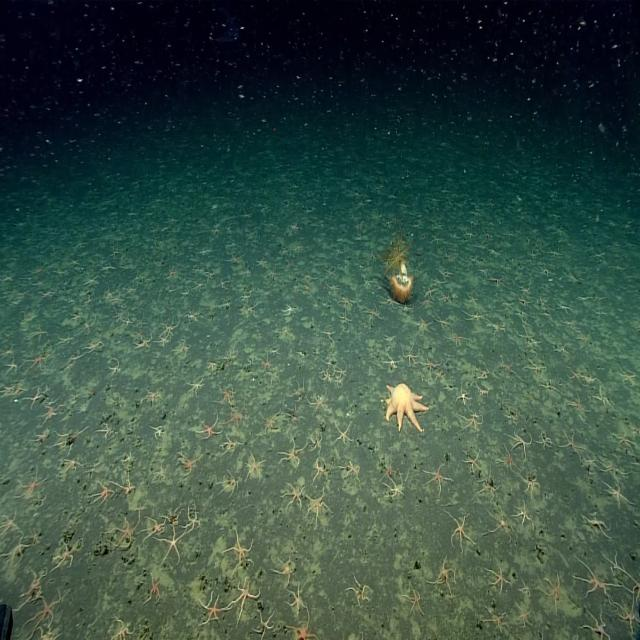brittle-stars: (575, 556, 611, 597), (33, 589, 63, 630), (232, 582, 260, 618), (533, 373, 566, 402), (2, 532, 30, 566), (228, 530, 254, 566), (449, 513, 474, 550), (163, 527, 187, 565), (19, 466, 47, 498), (112, 514, 138, 548), (583, 608, 610, 640), (347, 573, 371, 605), (488, 508, 512, 540), (202, 592, 226, 624), (616, 600, 639, 633), (543, 572, 565, 606), (433, 558, 455, 592), (237, 298, 264, 324), (584, 510, 609, 538), (25, 568, 48, 598), (424, 463, 449, 490), (56, 539, 78, 569), (513, 321, 539, 346), (604, 480, 628, 507), (55, 428, 82, 452), (291, 616, 318, 640), (307, 490, 328, 520), (621, 567, 640, 600), (280, 439, 304, 465), (282, 482, 304, 510), (561, 430, 583, 458), (161, 505, 185, 530), (602, 461, 629, 483), (487, 565, 508, 593), (111, 617, 136, 640), (254, 612, 276, 638), (406, 585, 424, 616), (510, 431, 533, 455), (198, 416, 222, 439), (228, 405, 250, 430), (92, 481, 114, 506), (0, 509, 19, 537), (144, 516, 167, 539), (486, 610, 507, 635), (436, 285, 457, 310), (613, 428, 636, 450), (246, 452, 264, 480), (288, 586, 306, 614), (178, 451, 199, 475), (512, 501, 532, 526), (275, 556, 295, 581), (28, 351, 52, 371), (219, 471, 238, 496), (481, 473, 500, 498), (459, 413, 482, 433), (17, 306, 40, 326), (498, 446, 516, 471), (146, 577, 162, 604), (63, 456, 84, 476), (25, 384, 45, 405), (212, 296, 234, 315), (514, 605, 531, 629), (184, 509, 200, 534), (309, 392, 329, 412), (226, 247, 245, 268), (336, 422, 354, 444), (116, 477, 134, 499), (592, 386, 610, 408), (265, 410, 281, 434), (526, 356, 546, 375), (342, 460, 360, 481), (462, 451, 480, 472), (386, 476, 404, 497), (41, 403, 60, 422), (216, 384, 234, 404), (523, 475, 540, 496), (568, 392, 585, 413), (187, 376, 206, 394), (447, 330, 466, 348), (620, 368, 638, 387), (79, 290, 95, 311), (67, 305, 83, 326), (313, 458, 328, 480), (163, 316, 180, 335), (203, 354, 219, 374), (37, 626, 59, 640), (436, 312, 453, 330), (144, 388, 162, 405), (98, 422, 115, 440), (30, 324, 48, 341), (464, 310, 483, 326), (290, 382, 305, 402), (136, 335, 153, 352), (363, 304, 379, 322), (175, 341, 191, 359), (422, 356, 440, 372), (222, 437, 238, 455), (488, 319, 506, 335), (405, 347, 420, 366), (567, 364, 582, 383), (358, 271, 373, 290), (58, 332, 75, 348), (381, 295, 398, 311), (457, 387, 472, 405), (82, 317, 97, 335), (155, 462, 170, 480), (536, 432, 550, 451), (86, 340, 105, 354), (225, 348, 239, 367), (30, 525, 42, 547), (311, 432, 324, 452), (554, 343, 570, 359), (417, 316, 432, 333), (513, 306, 531, 320), (87, 460, 101, 478), (504, 407, 518, 425), (108, 357, 121, 376), (520, 578, 532, 598), (4, 359, 19, 375), (528, 336, 544, 351), (385, 352, 399, 369), (382, 461, 396, 478), (150, 423, 164, 440), (498, 356, 512, 373), (476, 363, 490, 380), (135, 314, 150, 329), (282, 304, 298, 318), (561, 316, 577, 330), (34, 428, 50, 442), (135, 500, 148, 517), (339, 312, 354, 326), (268, 369, 282, 384), (476, 384, 491, 398), (578, 332, 592, 347), (372, 281, 387, 295), (158, 335, 172, 349), (340, 293, 354, 307), (322, 326, 336, 340), (104, 285, 116, 301), (263, 354, 275, 370), (87, 274, 100, 288), (431, 275, 444, 289), (185, 310, 198, 324), (489, 274, 503, 287), (126, 282, 139, 296), (40, 287, 54, 300), (12, 381, 25, 395), (123, 450, 135, 465), (538, 264, 550, 279), (630, 422, 640, 439), (168, 267, 181, 280), (255, 255, 268, 268), (268, 269, 281, 282), (1, 346, 14, 359), (320, 368, 332, 382), (557, 302, 571, 314), (548, 248, 562, 260), (0, 380, 12, 394), (337, 362, 348, 377), (466, 290, 477, 305), (365, 247, 376, 262), (520, 283, 532, 296), (195, 279, 207, 292), (423, 285, 435, 298), (240, 290, 252, 303), (218, 278, 230, 291), (327, 282, 340, 294), (301, 272, 314, 284), (587, 454, 598, 468), (281, 323, 291, 338), (518, 294, 530, 306), (464, 230, 476, 242), (270, 345, 282, 357), (577, 292, 589, 304), (502, 300, 514, 312), (105, 264, 117, 276), (443, 268, 454, 281), (586, 373, 597, 386), (488, 246, 501, 257), (475, 241, 488, 252), (116, 306, 126, 320), (124, 314, 134, 328), (191, 266, 202, 278), (436, 368, 447, 380), (448, 229, 459, 241), (401, 305, 412, 316), (303, 282, 314, 293), (420, 297, 432, 307), (335, 376, 345, 388), (326, 356, 336, 368), (242, 267, 252, 279), (312, 300, 321, 312), (357, 628, 366, 640)
